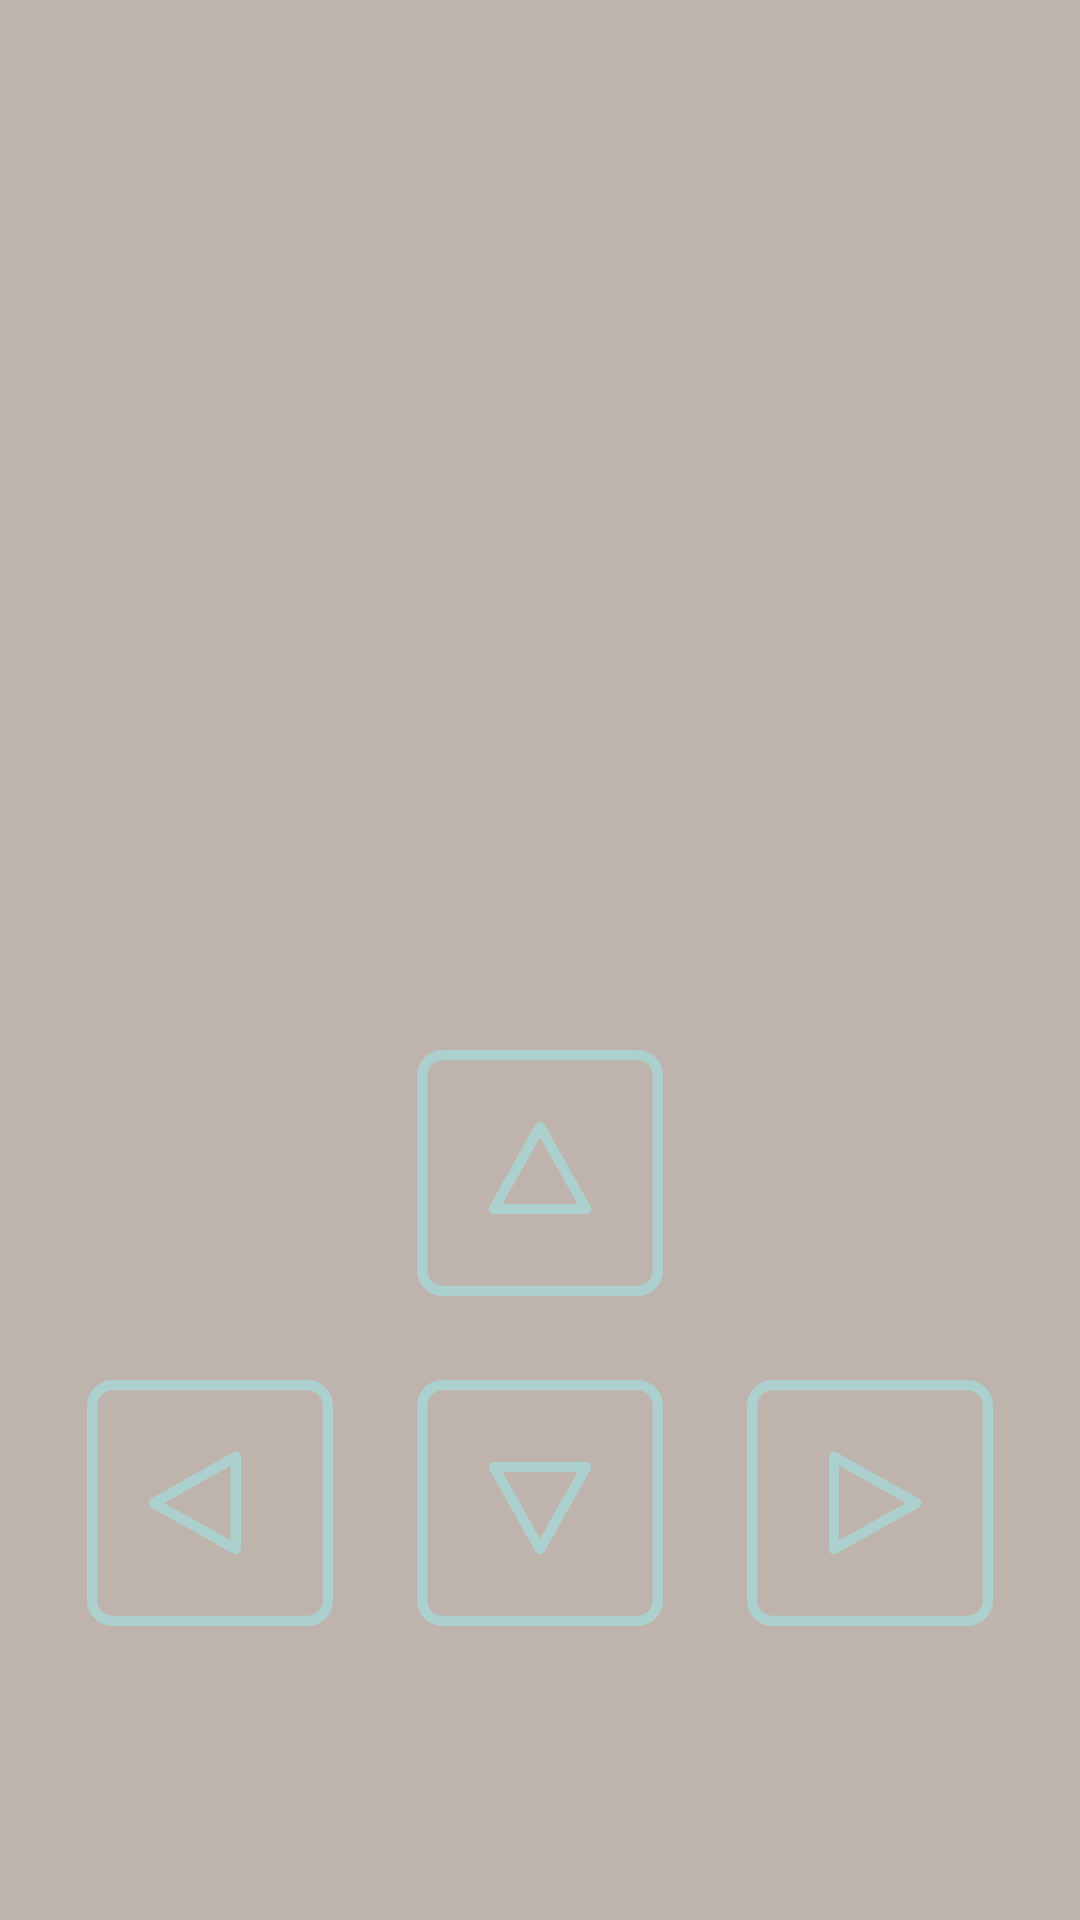

Icon bounding boxes for this 1080px x 1920px phone screenshot, format [left=x1, top=y1, right=x2, bottom=y2]:
down: [left=417, top=1380, right=663, bottom=1626]
left: [left=87, top=1380, right=333, bottom=1626]
right: [left=747, top=1380, right=993, bottom=1626]
